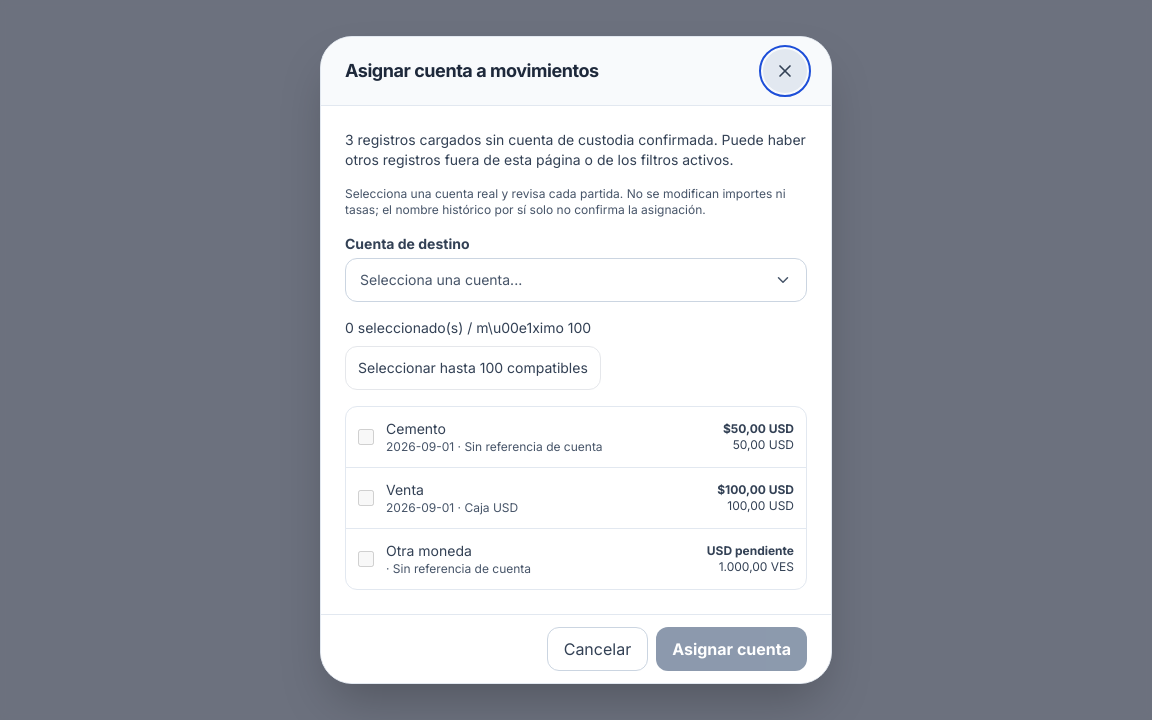
Test: Explicit classification with confirmed completion › selects compatible records and preserves selection on server failure
Click the dropdown named "Cuenta de destino" at [441, 280], box [345,258,807,302]
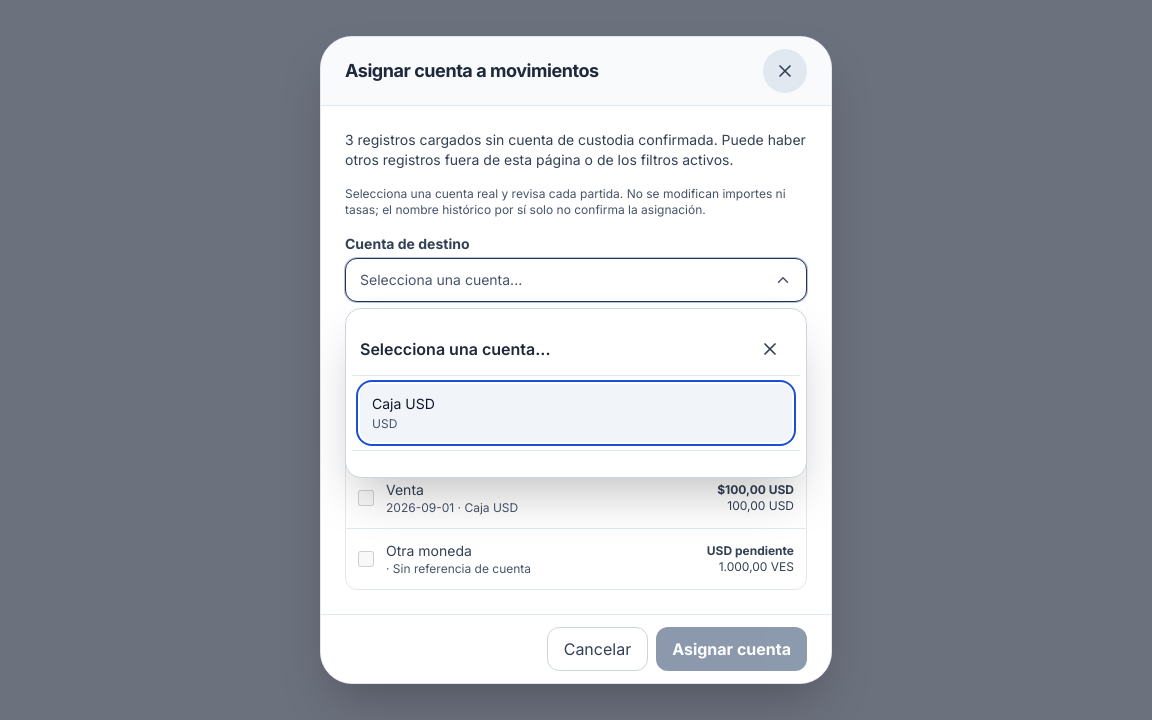
Click the option "Caja USD USD" at [403, 404], box [360,384,792,442]
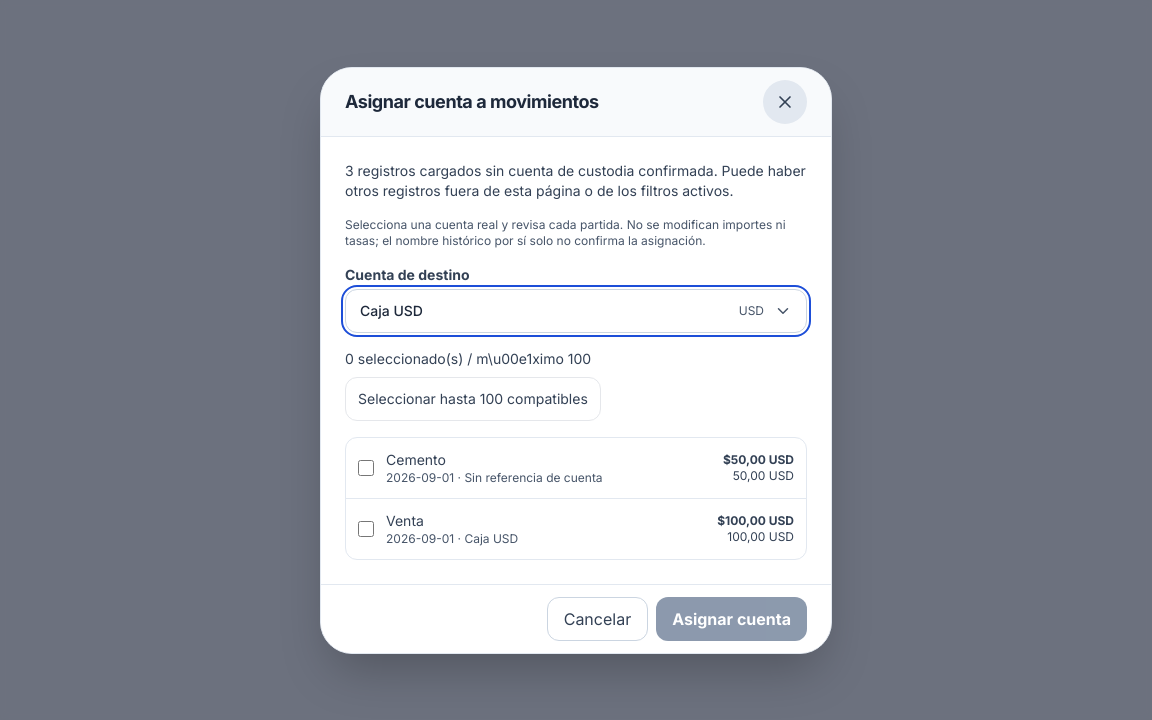
Click the button "Seleccionar hasta 100 compatibles" at [473, 398], box [345,376,601,420]
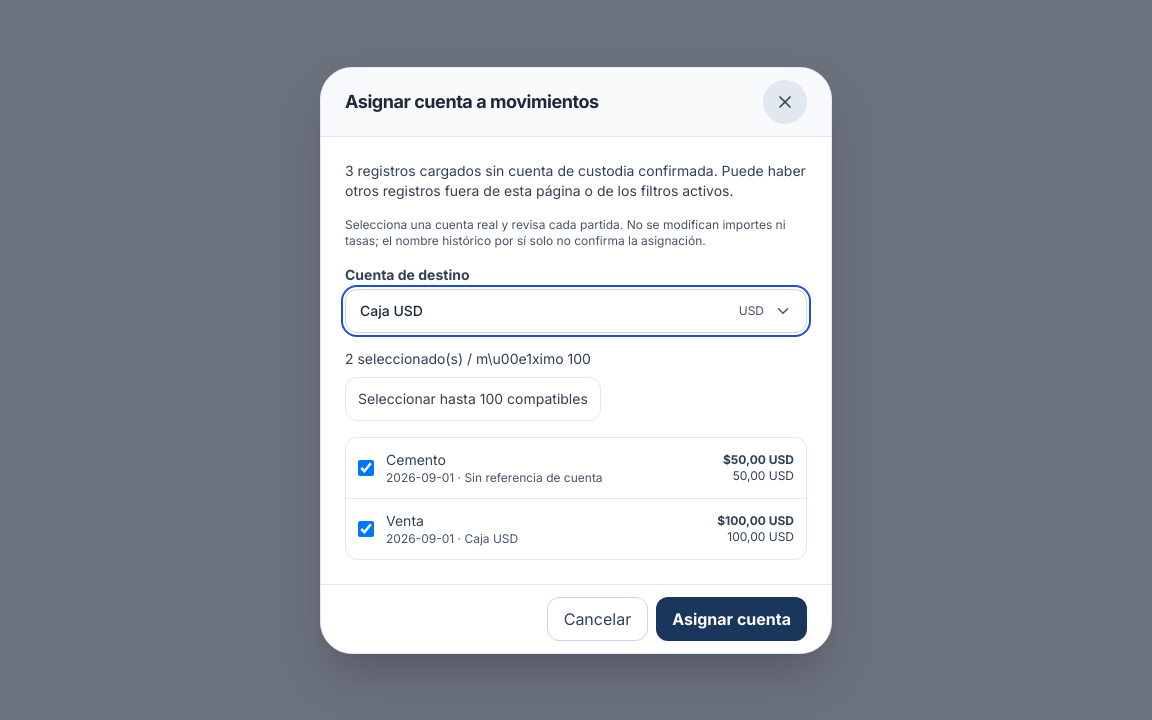
Click the button "Asignar cuenta" at [732, 618], box [656,596,807,640]
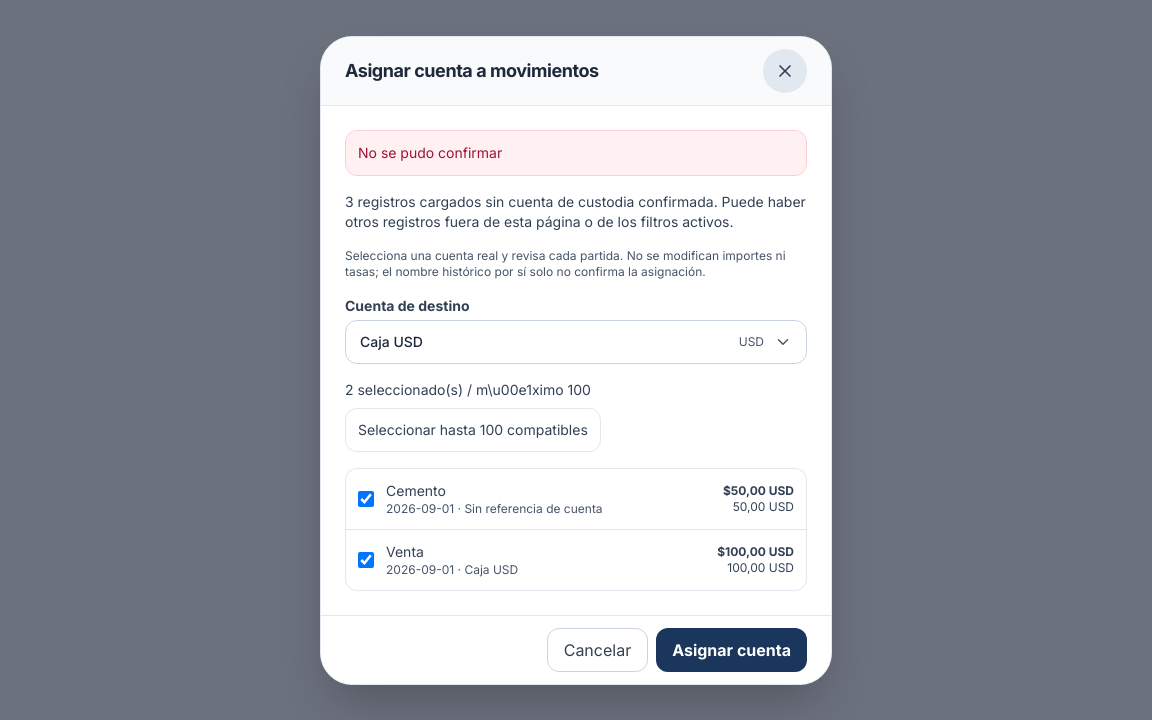
Expected: the checkbox labelled "Venta 2026-09-01 · Caja USD $100,00 USD 100,00 USD" is checked, [358,552,374,568]
Expected: the message reads "No se pudo confirmar", [358,144,502,160]
